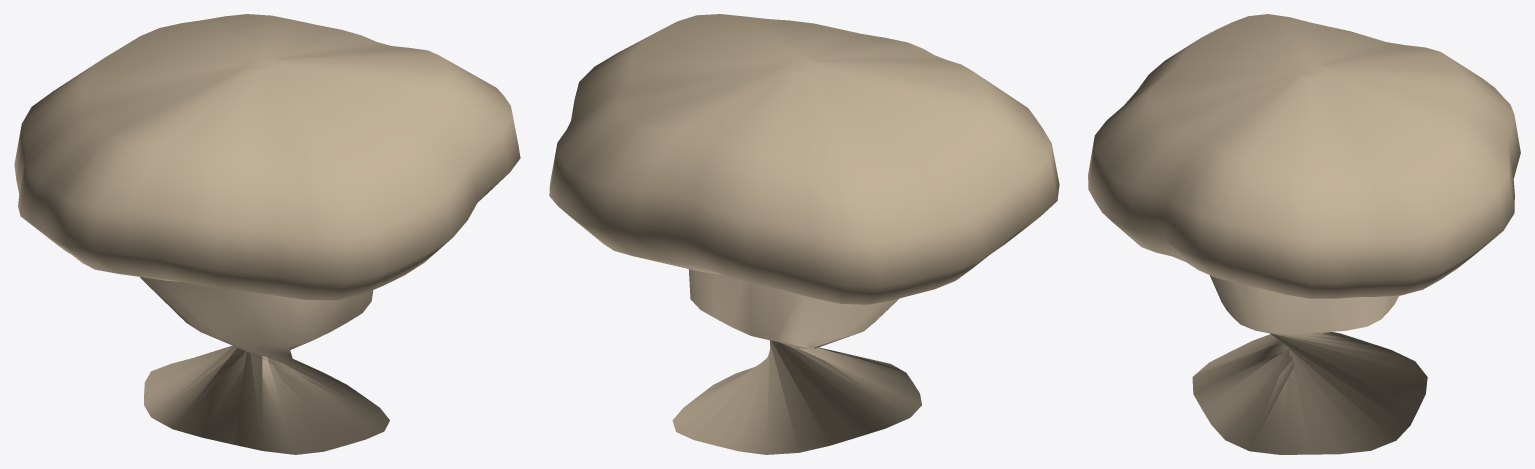
Rendered from hero-boulder-0.glb.
3 views of the same model, side by side, from view 1: azimuth 30°, elevation 25°; view 2: azimuth 150°, elevation 25°; view 3: azimuth 270°, elevation 25° (orthographic). The views are drawn at different scales.
Parts seen in each view (by area): view 1: Undercut weathered stone cap, Eroded limestone pedestal; view 2: Undercut weathered stone cap, Eroded limestone pedestal; view 3: Undercut weathered stone cap, Eroded limestone pedestal.
Boxes of the visible parts, x1,y1,x2,y2 form: Undercut weathered stone cap: [14, 14, 520, 300]; Eroded limestone pedestal: [140, 277, 389, 454]; Undercut weathered stone cap: [549, 14, 1059, 304]; Eroded limestone pedestal: [672, 269, 921, 454]; Undercut weathered stone cap: [1088, 14, 1520, 298]; Eroded limestone pedestal: [1192, 275, 1427, 454].
Bounding box in the file's own units: 0.1891 × 0.1425 × 0.1652.
